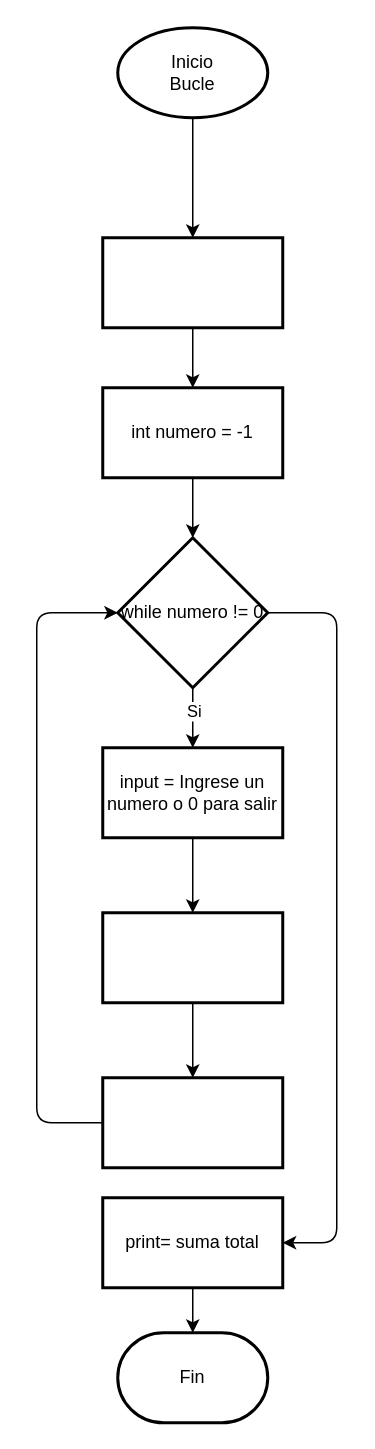
Image size: 375x1449. Some labels were removed from this diagram. Each missing label, with the box of its shape:
int suma = 0: (100, 236, 284, 328)
numero = input de numero: (100, 910, 284, 1004)
suma = suma + numero: (100, 1076, 284, 1168)
